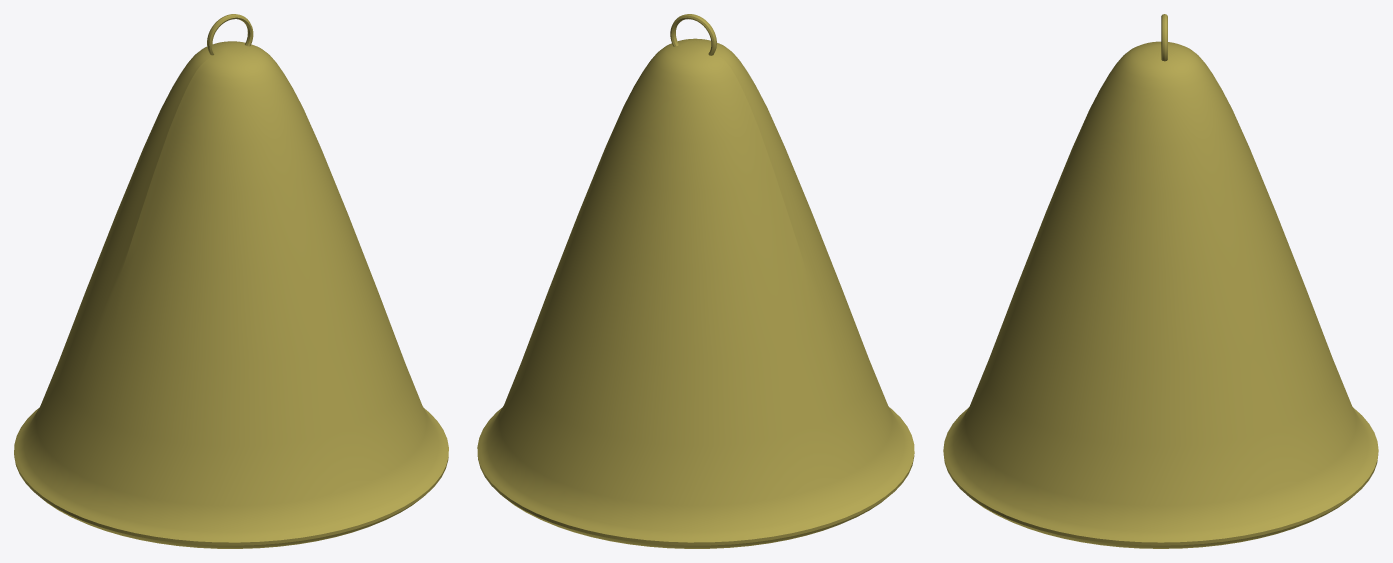
The model's file is bell.fbx.
3 views of the same model, side by side, from view 1: azimuth 30°, elevation 25°; view 2: azimuth 150°, elevation 25°; view 3: azimuth 270°, elevation 25° (orthographic).
Visible parts, largest first — view 1: Cylinder; view 2: Cylinder; view 3: Cylinder.
Part boxes in pixels (x1=…): Cylinder: x1=14, y1=14, x2=448, y2=548; Cylinder: x1=477, y1=14, x2=914, y2=548; Cylinder: x1=943, y1=14, x2=1378, y2=548.
Bounding box in the file's own units: 215 × 257 × 215.
